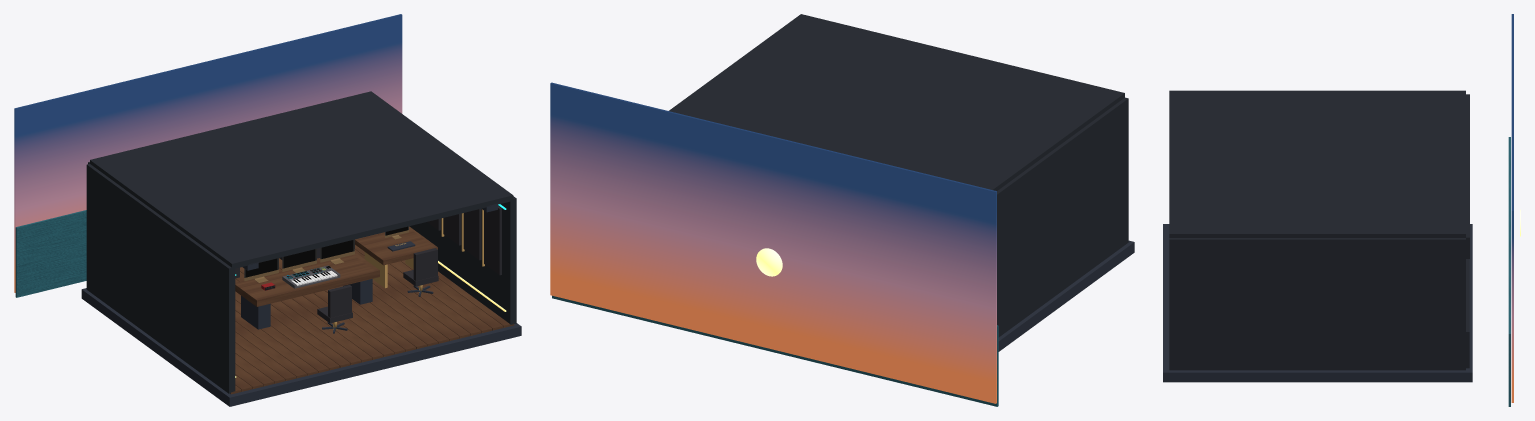
File: studio.glb
3 renders of one model, left to right at view 1: azimuth 30°, elevation 25°; view 2: azimuth 150°, elevation 25°; view 3: azimuth 270°, elevation 25°, orthographic. The views are drawn at different scales.
Parts seen in each view (by area): view 1: Detailed ceiling, Outside sky, Side wall, Foundation, Outside ocean, Side wall.001, Production console, REVIEW desk, Padded acoustic panel.006, Walnut floor plank 11, Walnut floor plank 22, Walnut floor plank 12 (+29 smaller); view 2: Outside sky, Detailed ceiling, Side wall, Foundation, Outside ocean, Sun over ocean; view 3: Detailed ceiling, Side wall.001, Foundation, Outside sky, Outside ocean, Rear header, Rear wall lower.
Part boxes in pixels (x1,y1,x2,y2): Detailed ceiling: (90,91,513,268); Outside sky: (14,14,402,292); Side wall: (86,164,235,393); Foundation: (81,288,521,406); Outside ocean: (15,210,86,297); Side wall.001: (409,196,516,324); Production console: (235,253,379,306); REVIEW desk: (355,226,437,265); Padded acoustic panel.006: (484,206,501,275); Walnut floor plank 11: (235,271,361,364); Walnut floor plank 22: (355,239,481,335); Walnut floor plank 12: (240,267,372,362); Outside sky: (550,82,996,403); Detailed ceiling: (669,14,1124,190); Side wall: (997,97,1128,337); Foundation: (998,240,1134,351); Outside ocean: (552,295,998,406); Sun over ocean: (756,248,782,276); Detailed ceiling: (1169,90,1465,237); Side wall.001: (1169,238,1465,370); Foundation: (1163,224,1472,382); Outside sky: (1511,14,1513,402); Outside ocean: (1508,137,1510,406); Rear header: (1462,94,1469,258); Rear wall lower: (1466,259,1469,368).
Size of the model in its own units: 11 by 5.1 by 8.44.
Materials: 28 (7 with a texture image).
